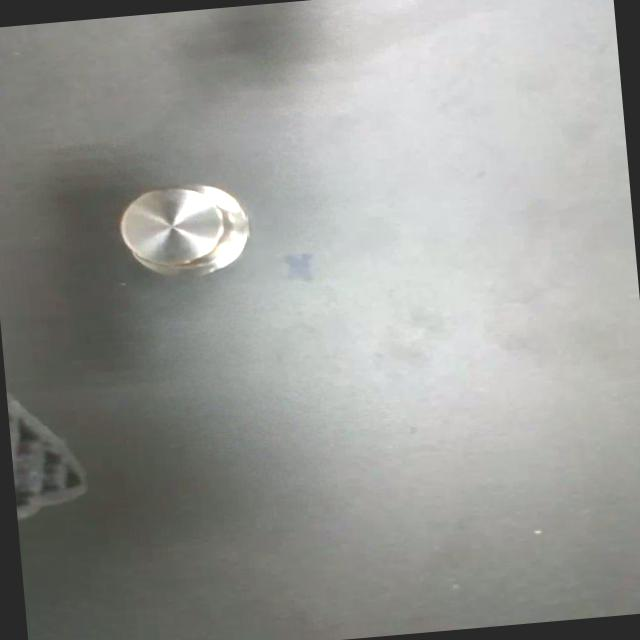sensor: (116, 178, 252, 283)
